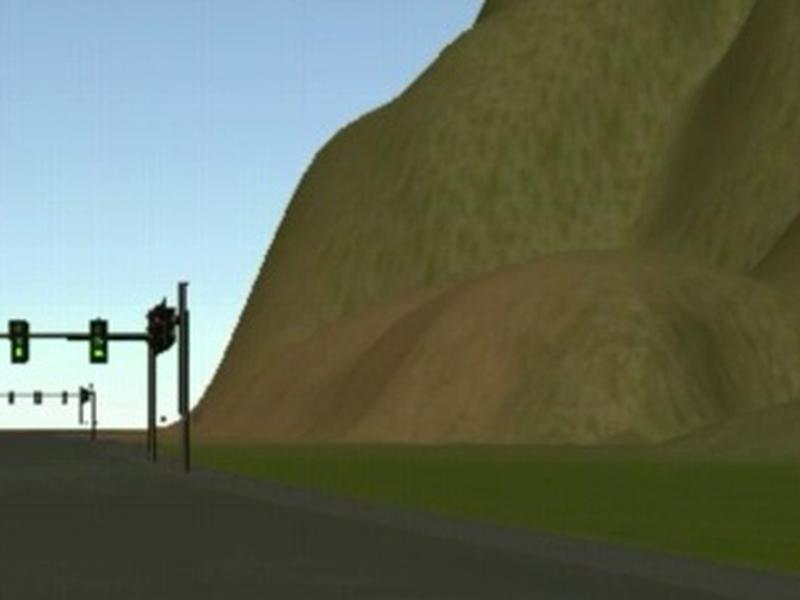Green: (10, 319, 30, 364), (88, 320, 106, 364)
